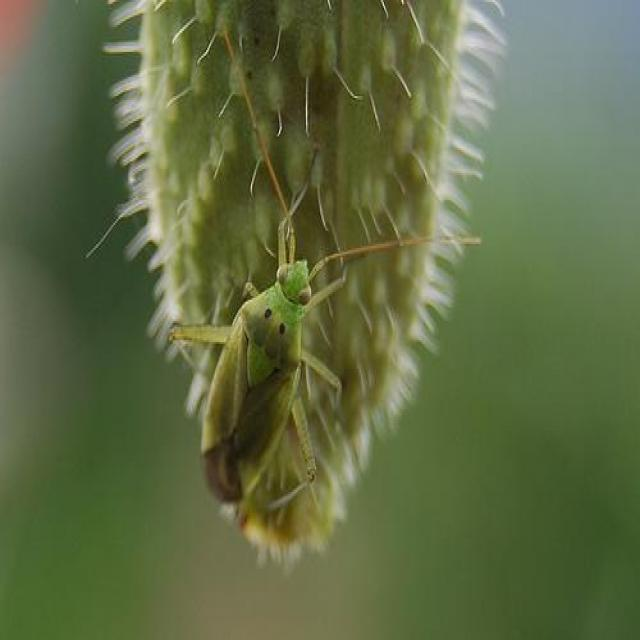Miridae-Adult-: (161, 22, 458, 520)
